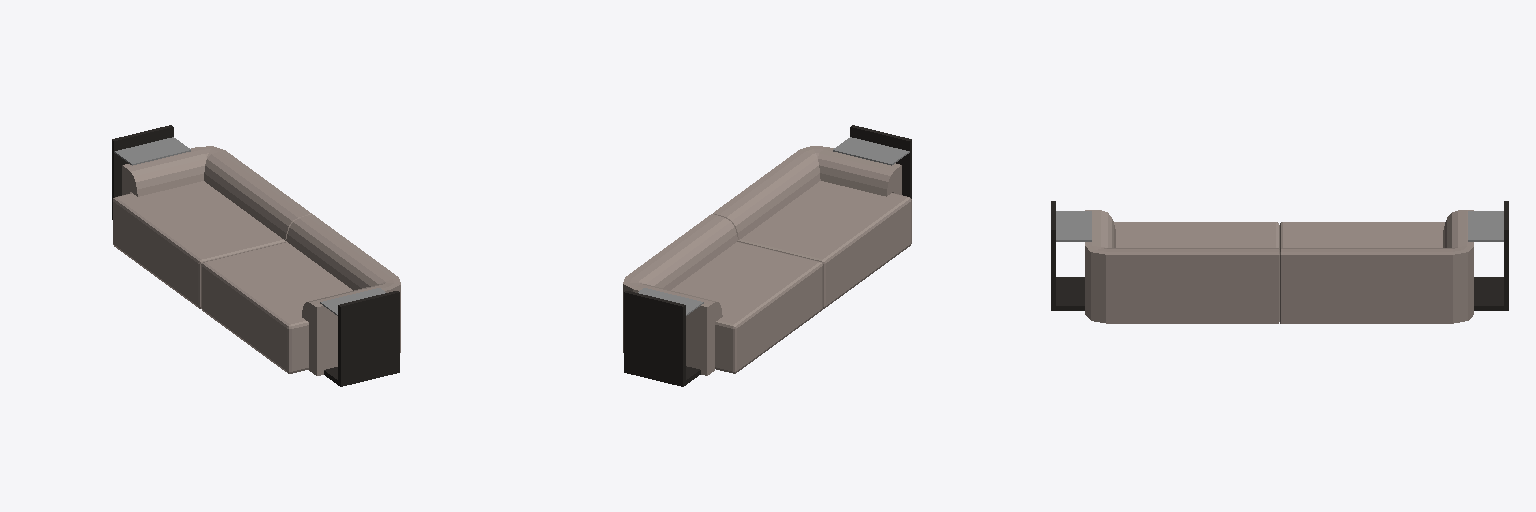
File: sofa_02.obj
The picture shows the model from 3 angles: view 1: azimuth 30°, elevation 25°; view 2: azimuth 150°, elevation 25°; view 3: azimuth 270°, elevation 25°; orthographic projection.
Parts seen in each view (by area): view 1: sofa_02; view 2: sofa_02; view 3: sofa_02.
Part boxes in pixels (left/top/right/bottom): sofa_02: left=112, top=125, right=400, bottom=386; sofa_02: left=623, top=125, right=911, bottom=386; sofa_02: left=1051, top=201, right=1508, bottom=323.
Size of the model in its own units: 1.09 by 0.7502 by 3.87.